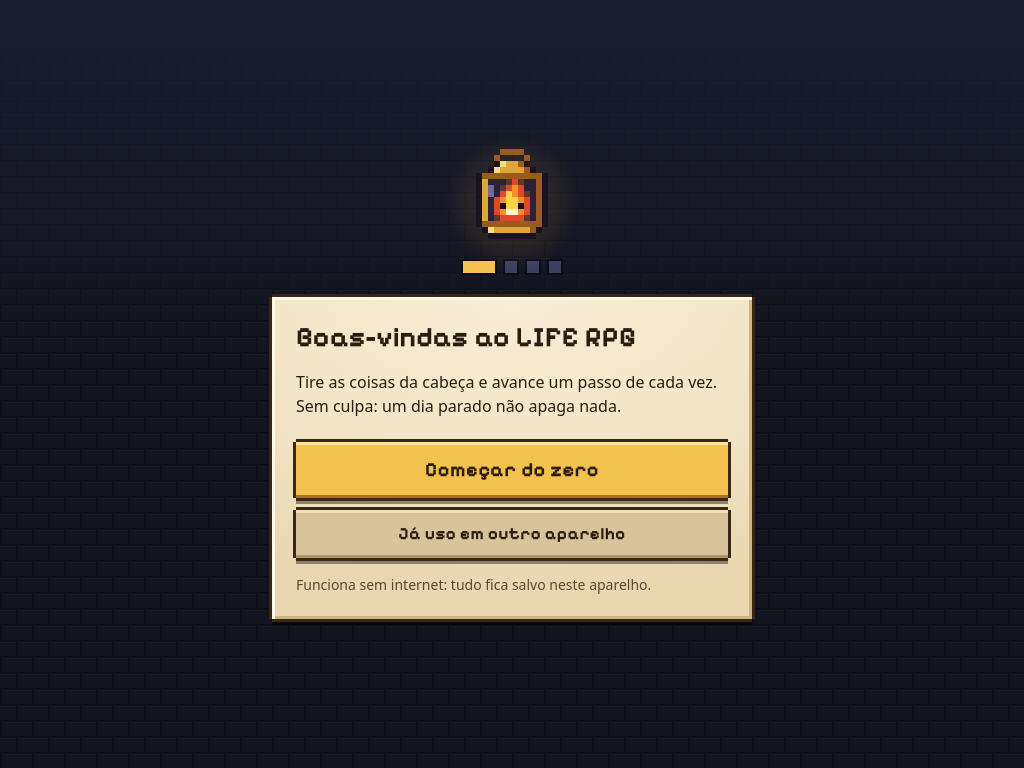
Test: Onboarding › every step can be skipped and it still finishes offline
This screenshot has width=1024, height=768.
Later steps or results of the test are not shown.
Click the button "Começar do zero": (512, 470) [296,442,728,498]
(page scrolled)
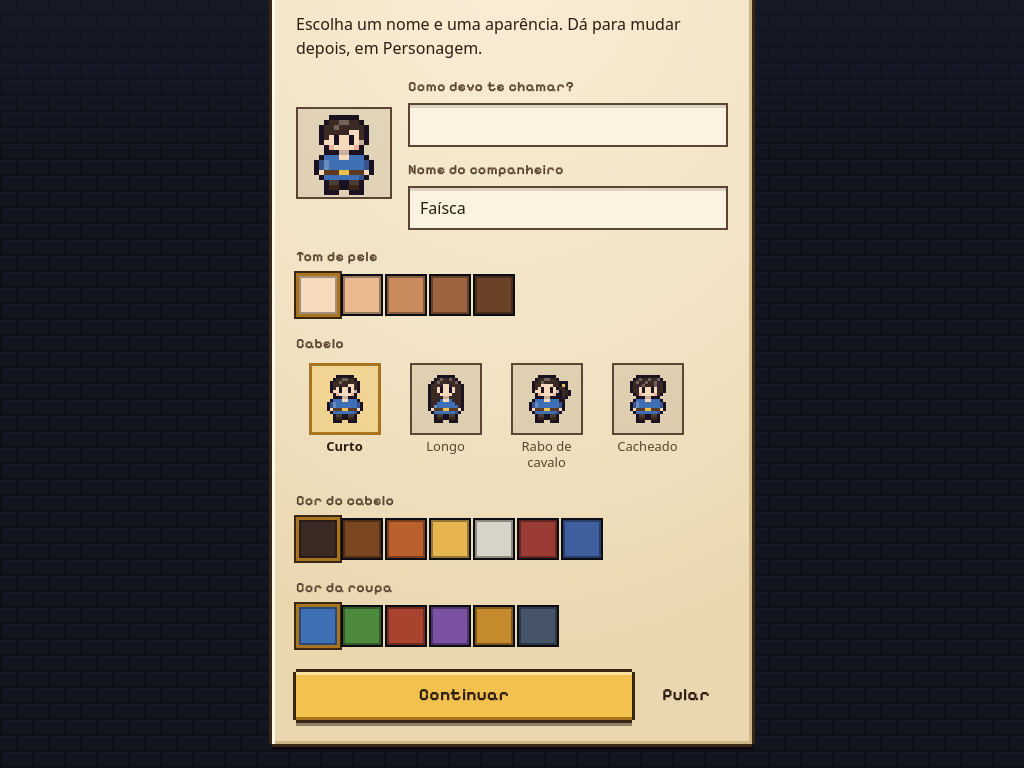
Click the button "Pular": (686, 696) [644,672,728,720]
(page scrolled)
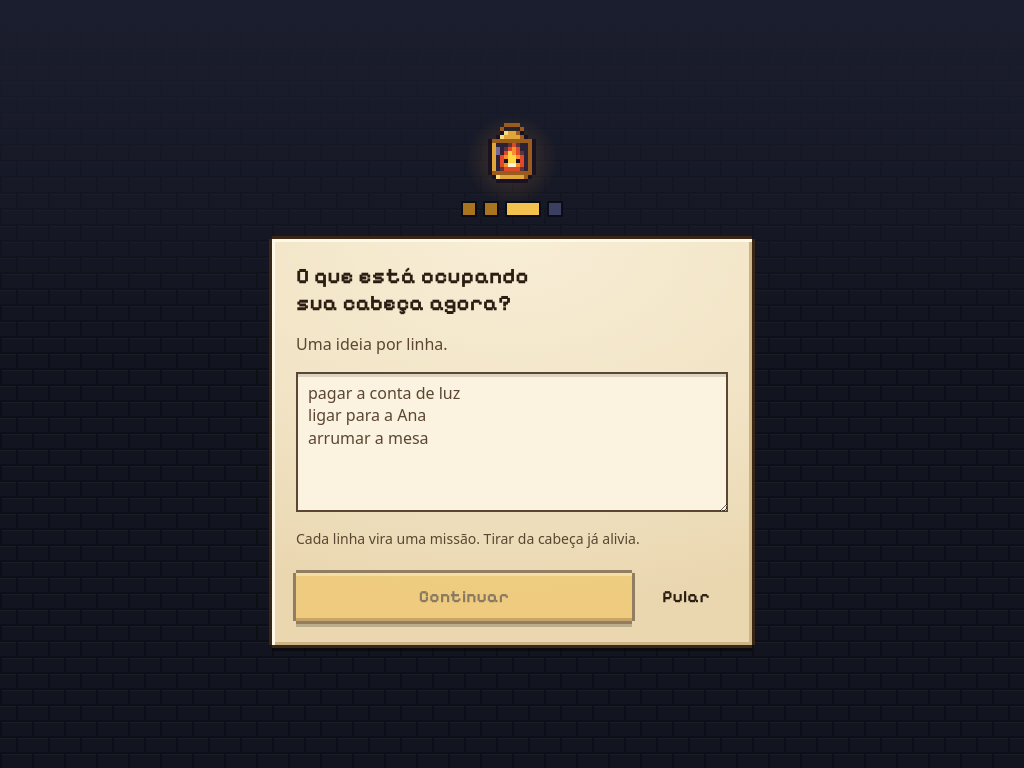
Expected: the text box labelled "O que está ocupando sua cabeça agora? Uma ideia por linha." is shown, [296,372,728,512]
